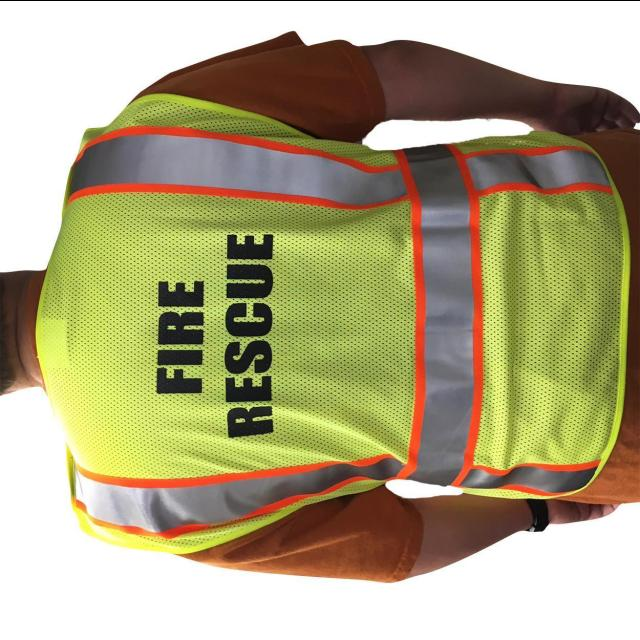jacket: (52, 109, 626, 562)
